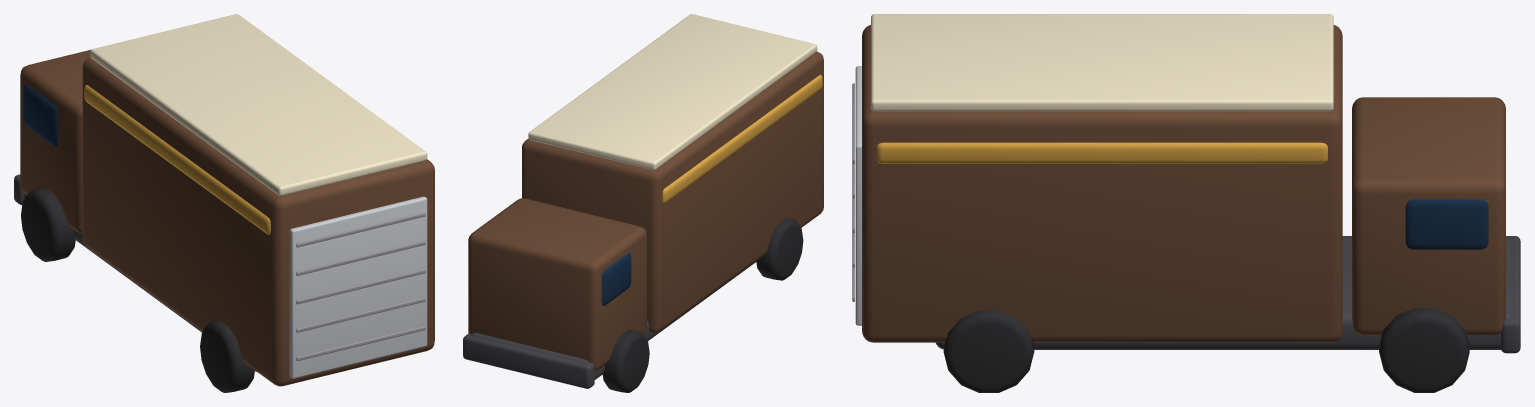
Rendered from delivery-truck.glb.
The picture shows the model from 3 angles, left to right: view 1: azimuth 30°, elevation 25°; view 2: azimuth 150°, elevation 25°; view 3: azimuth 270°, elevation 25°; orthographic projection. The views are drawn at different scales.
Parts seen in each view (by area): view 1: Trk_Box, Trk_BoxRoof, Trk_RollDoor, Trk_Cab, Trk_StripeGold, Wheel_trk0, Wheel_trk2, Trk_SideGlass, Trk_Slat_1, Trk_Slat_4, Trk_Slat_0, Trk_Slat_2 (+1 smaller); view 2: Trk_Box, Trk_Cab, Trk_BoxRoof, Trk_BumpF, Trk_StripeGold, Wheel_trk0, Wheel_trk2, Trk_SideGlass, Trk_Skirt; view 3: Trk_Box, Trk_BoxRoof, Trk_Cab, Trk_StripeGold, Wheel_trk1, Wheel_trk3, Trk_Skirt, Trk_SideGlass, Trk_RollDoor, Trk_BumpF.
Boxes of the visible parts, bbox=[...] form: Trk_Box: bbox=[82, 58, 434, 386]; Trk_BoxRoof: bbox=[90, 14, 427, 195]; Trk_RollDoor: bbox=[289, 196, 427, 378]; Trk_Cab: bbox=[20, 50, 90, 233]; Trk_StripeGold: bbox=[84, 85, 270, 234]; Wheel_trk0: bbox=[21, 188, 75, 261]; Wheel_trk2: bbox=[200, 320, 254, 392]; Trk_SideGlass: bbox=[23, 84, 57, 146]; Trk_Slat_1: bbox=[296, 297, 425, 332]; Trk_Slat_4: bbox=[296, 212, 425, 247]; Trk_Slat_0: bbox=[296, 326, 425, 361]; Trk_Slat_2: bbox=[296, 269, 425, 304]; Trk_Box: bbox=[522, 51, 823, 333]; Trk_Cab: bbox=[468, 198, 646, 370]; Trk_BoxRoof: bbox=[528, 14, 817, 170]; Trk_BumpF: bbox=[463, 333, 594, 388]; Trk_StripeGold: bbox=[662, 74, 822, 203]; Wheel_trk0: bbox=[602, 329, 649, 392]; Wheel_trk2: bbox=[756, 218, 803, 280]; Trk_SideGlass: bbox=[601, 252, 631, 305]; Trk_Skirt: bbox=[471, 260, 757, 379]; Trk_Box: bbox=[862, 25, 1342, 342]; Trk_BoxRoof: bbox=[871, 14, 1333, 111]; Trk_Cab: bbox=[1352, 97, 1505, 335]; Trk_StripeGold: bbox=[876, 142, 1327, 163]; Wheel_trk1: bbox=[1379, 307, 1469, 392]; Wheel_trk3: bbox=[943, 310, 1034, 392]; Trk_Skirt: bbox=[936, 236, 1512, 349]; Trk_SideGlass: bbox=[1405, 199, 1488, 249]; Trk_RollDoor: bbox=[855, 66, 861, 325]; Trk_BumpF: bbox=[1500, 236, 1520, 353].
Bounding box in the file's own units: 2.78 × 3.48 × 7.37.
